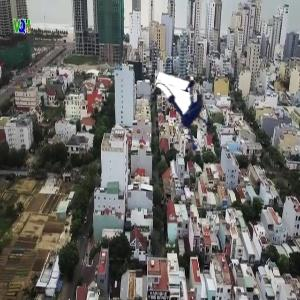drone: (147, 77, 231, 161)
